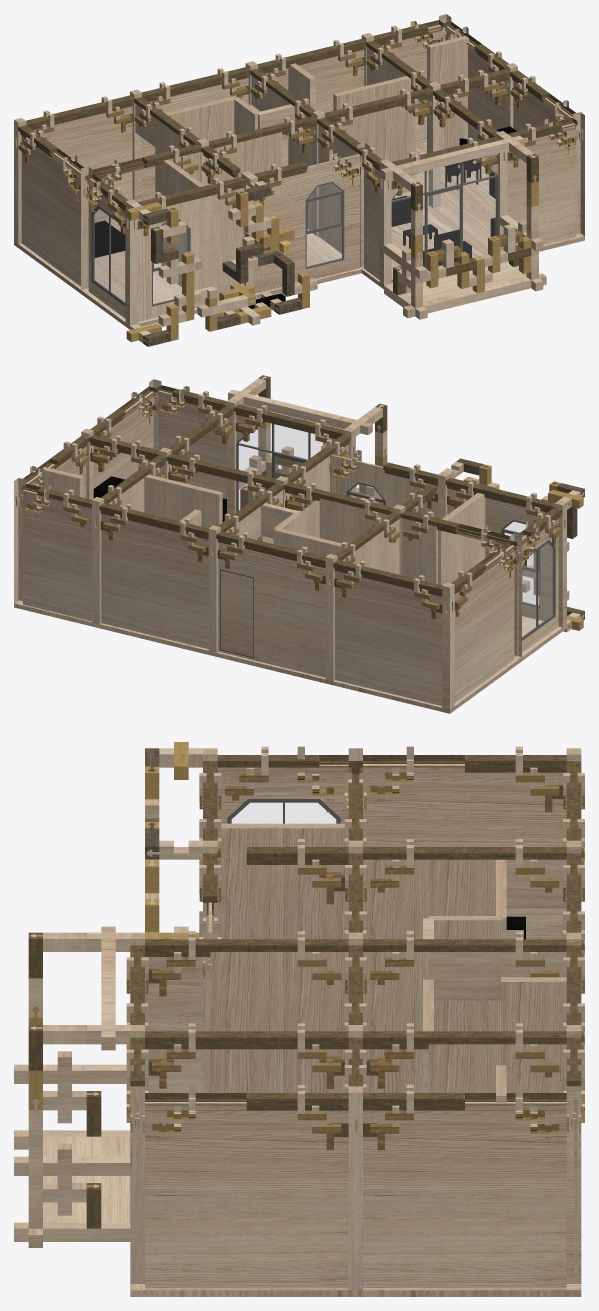
The model's file is 2bed-a.glb.
3 renders of one model, top to bottom at view 1: azimuth 30°, elevation 25°; view 2: azimuth 150°, elevation 25°; view 3: azimuth 270°, elevation 25°, orthographic. The views are drawn at different scales.
Size of the model in its own units: 11.45 by 3.2 by 7.85.
Materials: 13 (9 with a texture image).
